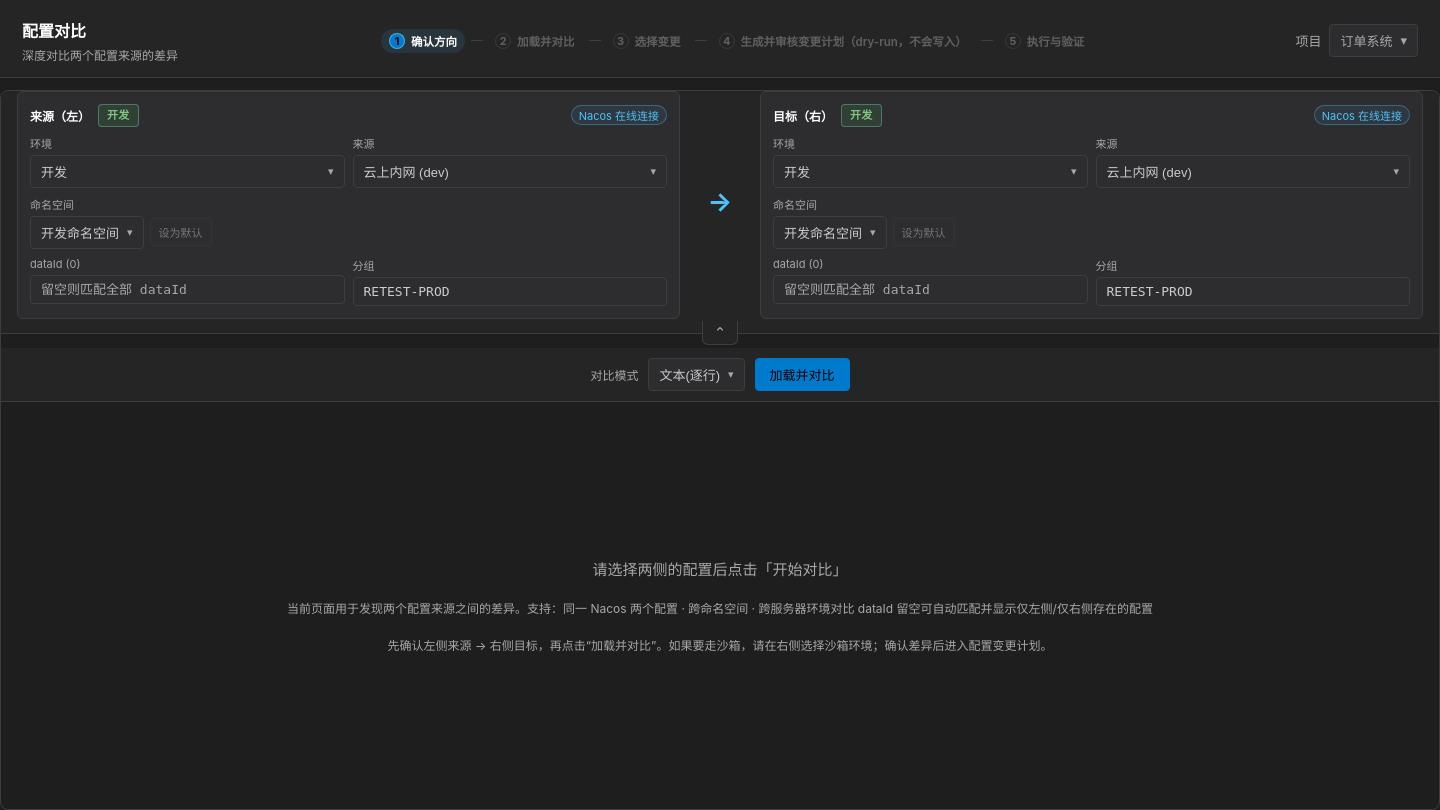
Test: DiffView › sets the selected namespace as the connection default from smart compare
Press the mouse on the button "开发命名空间 ▾" below "来源（左）": (87, 232) top-left (30, 216), bottom-right (144, 248)
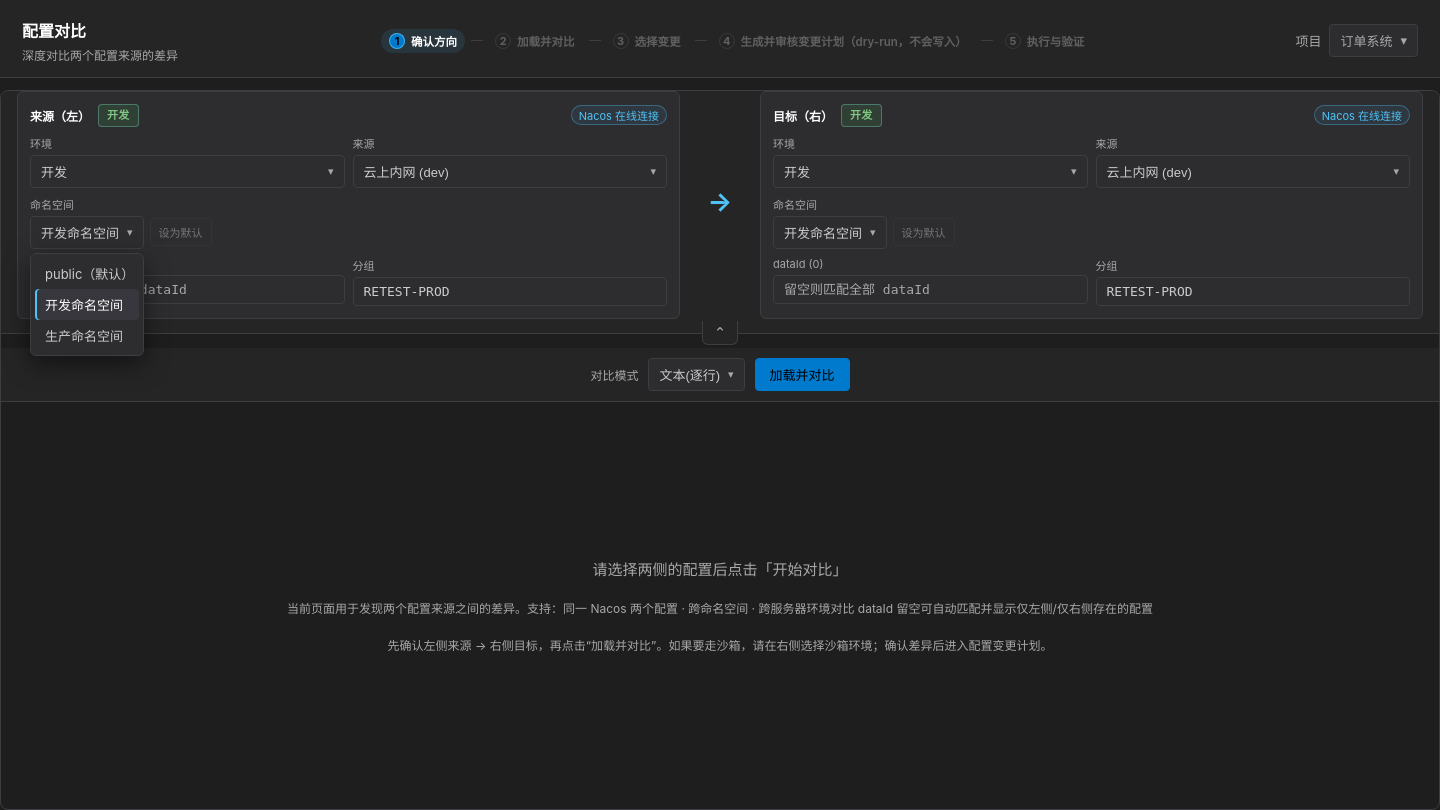
Press the mouse on the option "生产命名空间": (84, 336) top-left (45, 328), bottom-right (123, 344)
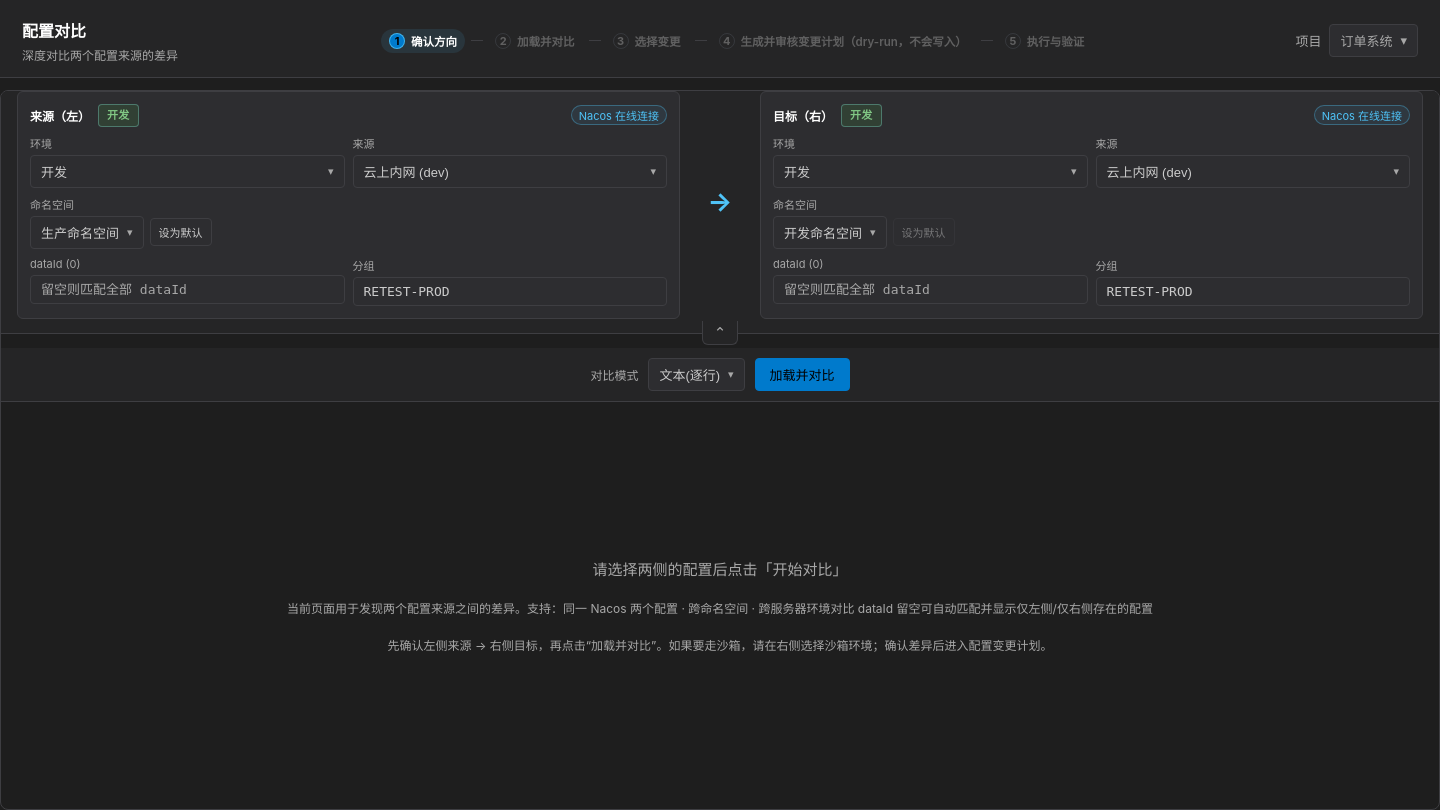
Click the button "设为默认" below "来源（左）": (180, 232) top-left (150, 218), bottom-right (212, 246)
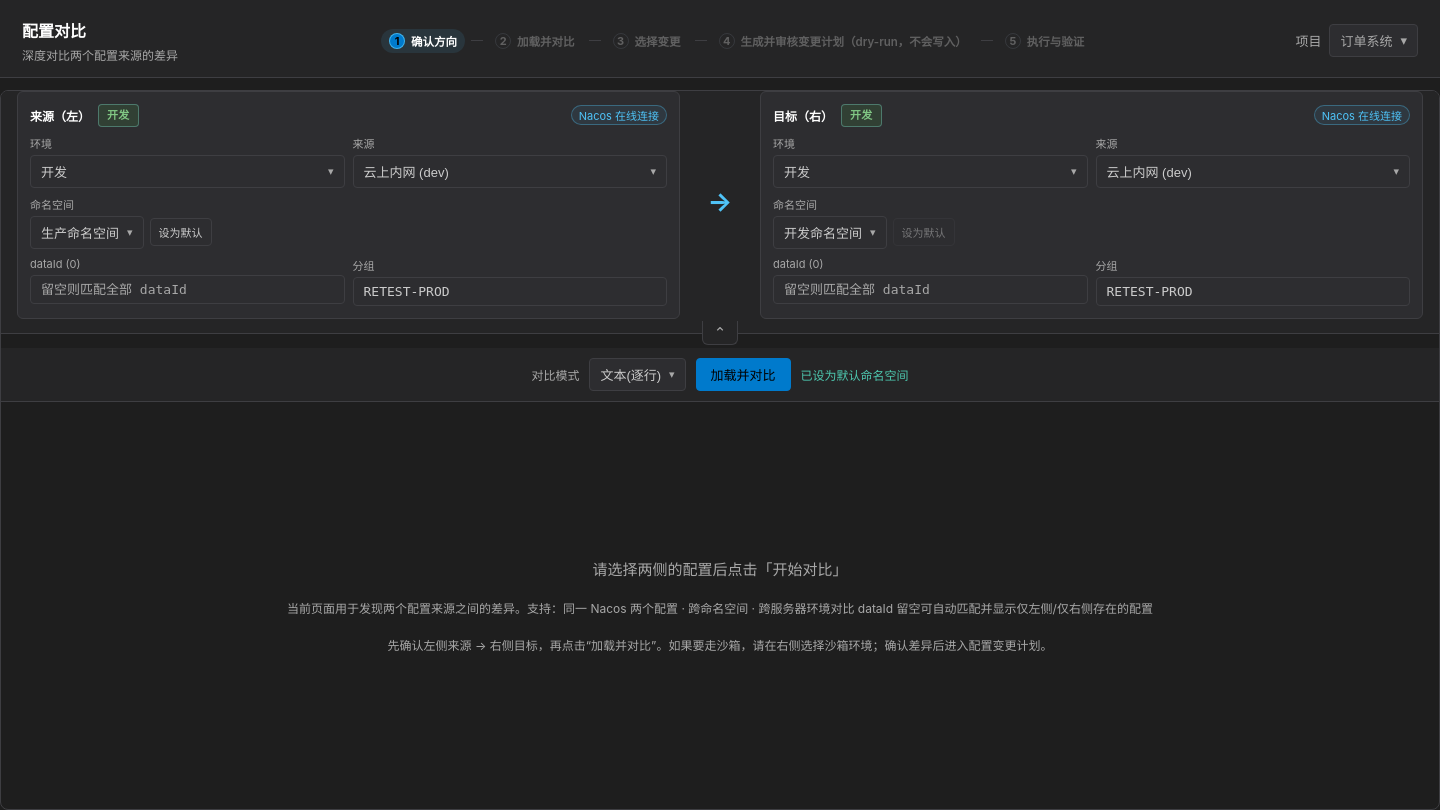
Result: the text "已设为默认命名空间" is shown at top-left (801, 368), bottom-right (909, 382)
